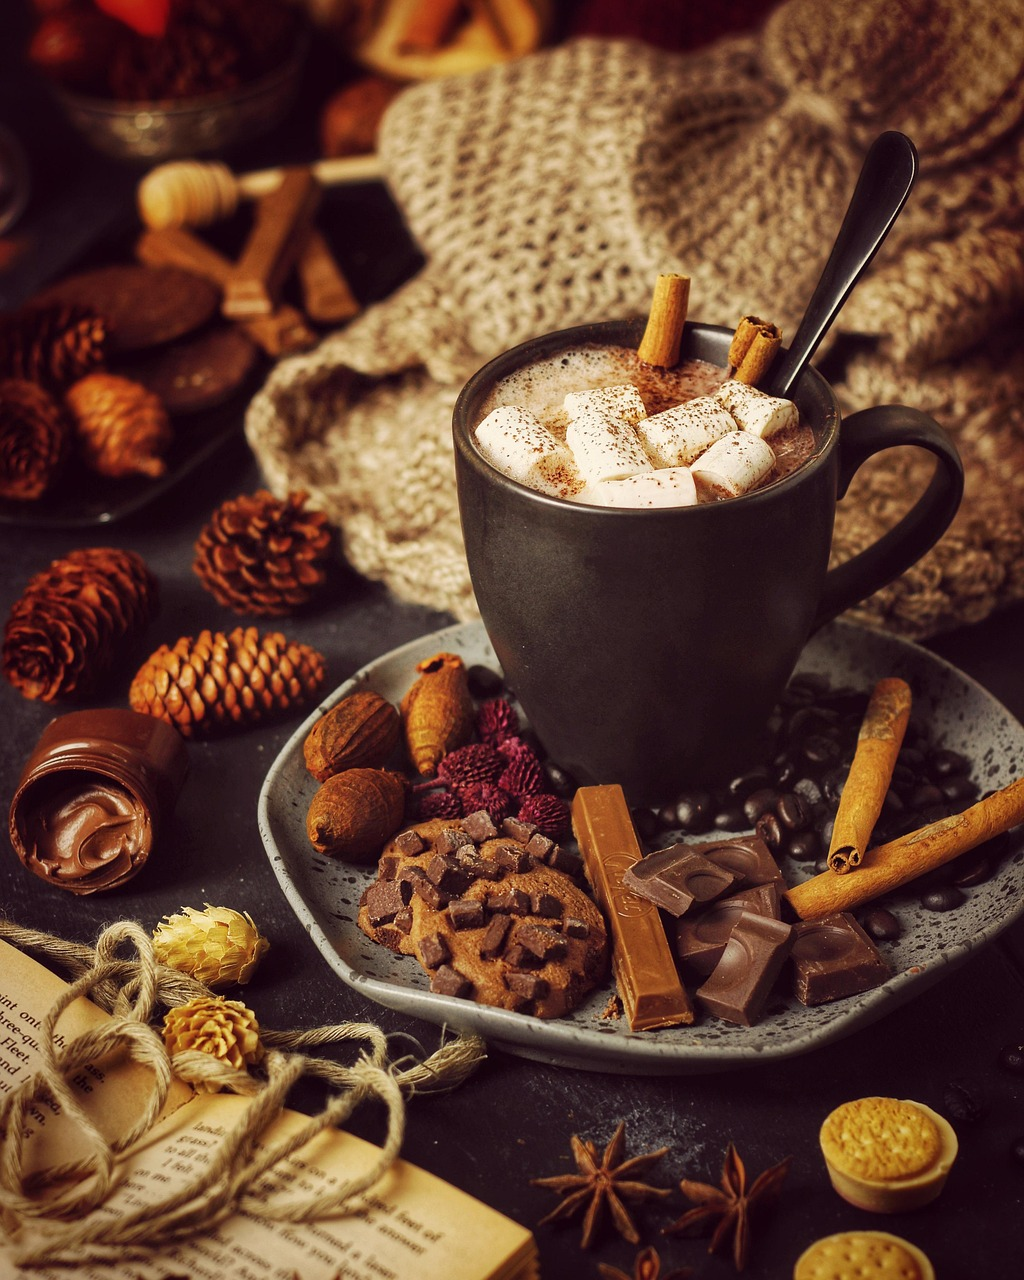mug: (406, 284, 965, 851)
